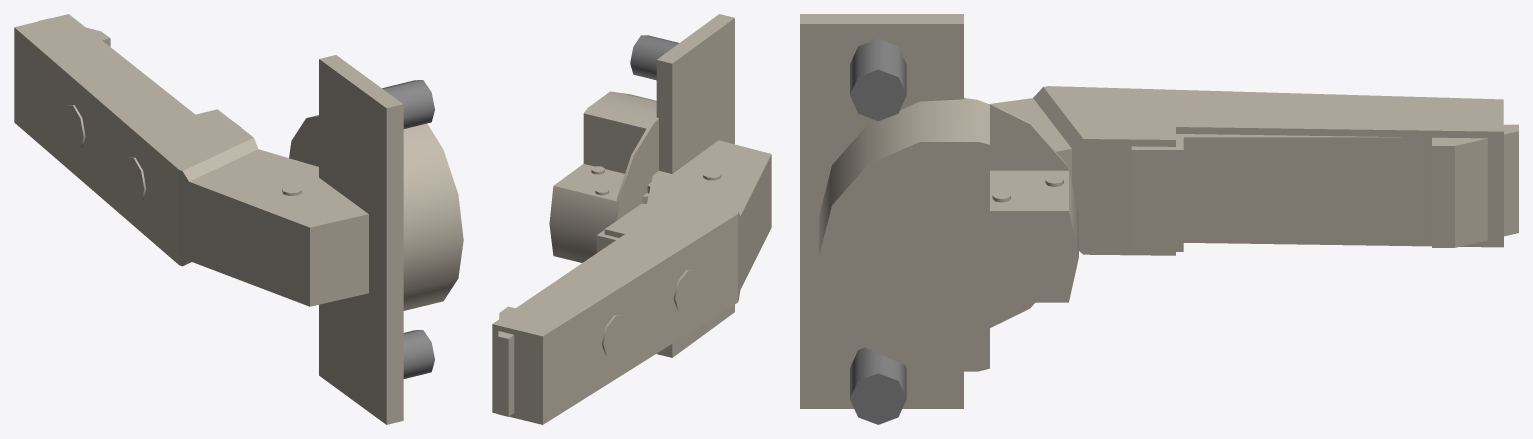
3 views of the same model, side by side, from view 1: azimuth 30°, elevation 25°; view 2: azimuth 150°, elevation 25°; view 3: azimuth 270°, elevation 25° (orthographic). The views are drawn at different scales.
Parts seen in each view (by area): view 1: bau0016451269-1, bau0015166285-1; view 2: bau0016451269-1, bau0015166285-1, bau0019426112-2; view 3: bau0015166285-1, bau0019426112-2, bau0016451269-1.
Part boxes in pixels (x1=…): bau0016451269-1: x1=14, y1=14, x2=368, y2=306; bau0015166285-1: x1=289, y1=55, x2=463, y2=424; bau0016451269-1: x1=492, y1=140, x2=771, y2=424; bau0015166285-1: x1=549, y1=14, x2=734, y2=357; bau0019426112-2: x1=498, y1=230, x2=618, y2=416; bau0015166285-1: x1=800, y1=14, x2=1078, y2=424; bau0019426112-2: x1=1131, y1=124, x2=1518, y2=251; bau0016451269-1: x1=989, y1=86, x2=1503, y2=255.
Bounding box in the file's own units: 35.82 × 57 × 96.5.
